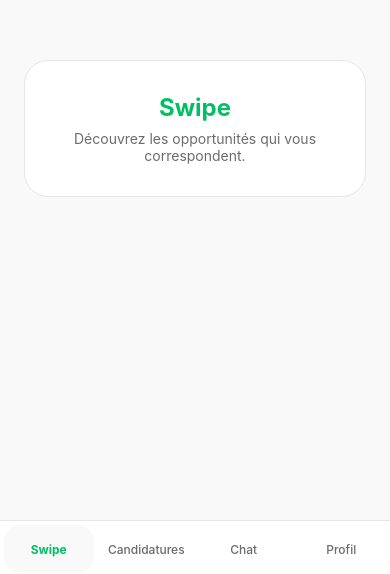
Test: CandidateApp › switches between tabs
expect the text "Découvrez les opportunités qui vous correspondent." is shown: met, box [57,130,333,164]
// Switch to Candidatures
Click the tab with test id "tab-applications": coordinates (146, 549) [108,542,185,556]
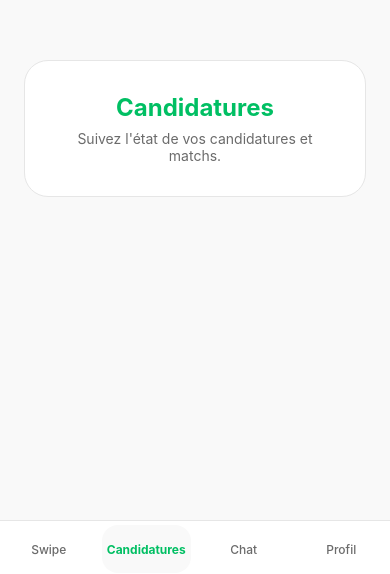
expect the text "Suivez l'état de vos candidatures et matchs." is shown: met, box [57,130,333,164]
// Switch to Chat
Click the tab with test id "tab-chat": coordinates (244, 549) [230,542,257,556]
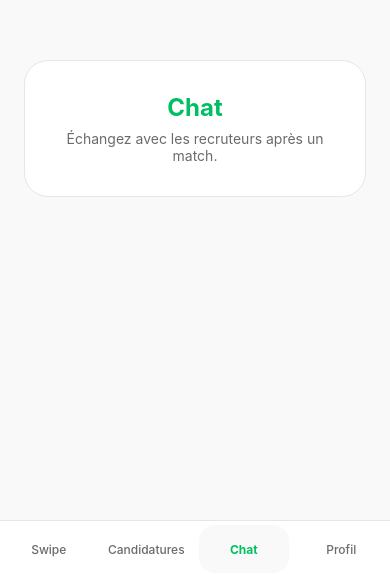
expect the text "Échangez avec les recruteurs après un match." is shown: met, box [57,130,333,164]
// Switch to Profil
Click the tab with test id "tab-profile": coordinates (341, 549) [326,542,356,556]
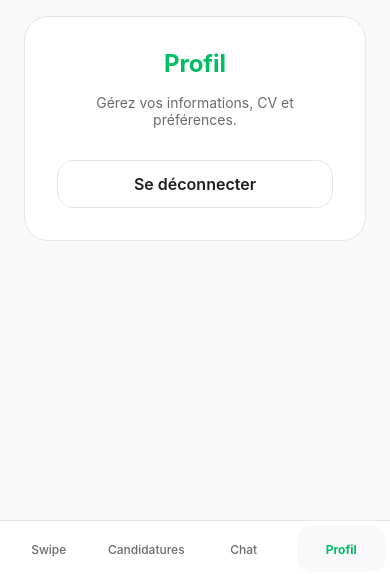
expect the text "Gérez vos informations, CV et préférences." is shown: met, box [96,94,298,128]
